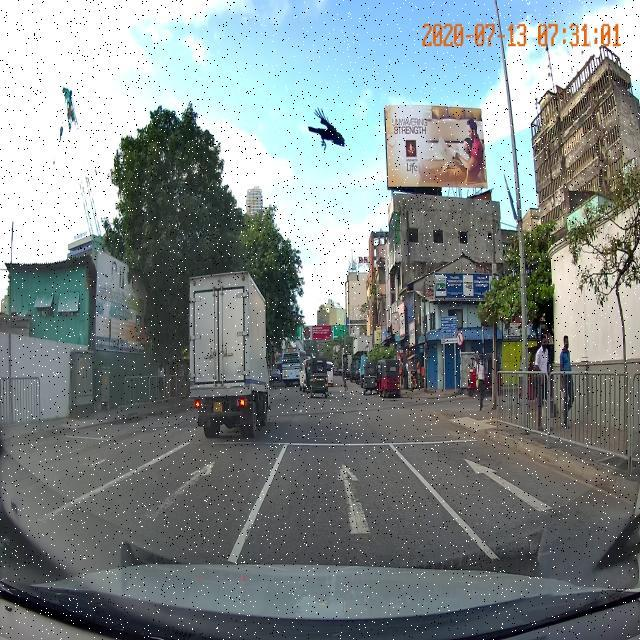forward: (239, 458, 475, 535)
